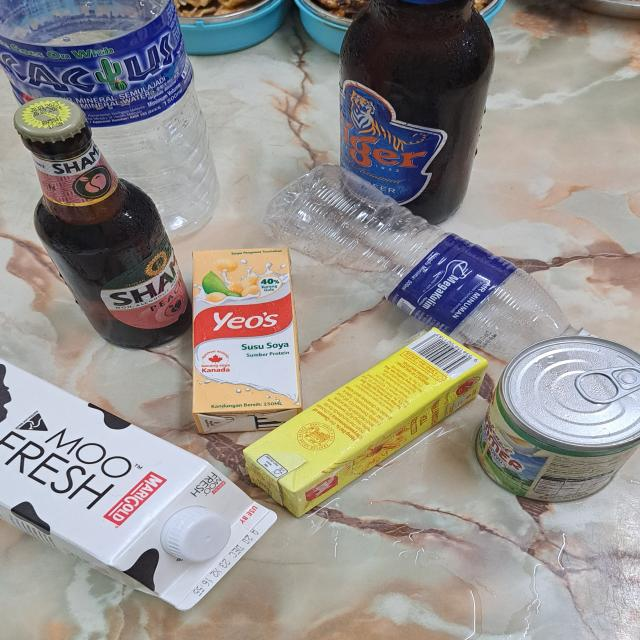can: (476, 336, 640, 503)
drink carton: (1, 356, 282, 612), (239, 330, 490, 531), (190, 250, 304, 430)
glass bottle: (12, 101, 200, 352), (338, 0, 496, 227)
plastic bottle: (268, 164, 590, 366), (0, 0, 225, 242)
plastic bottle cap: (163, 510, 224, 564)
pop tab: (583, 366, 640, 408)
